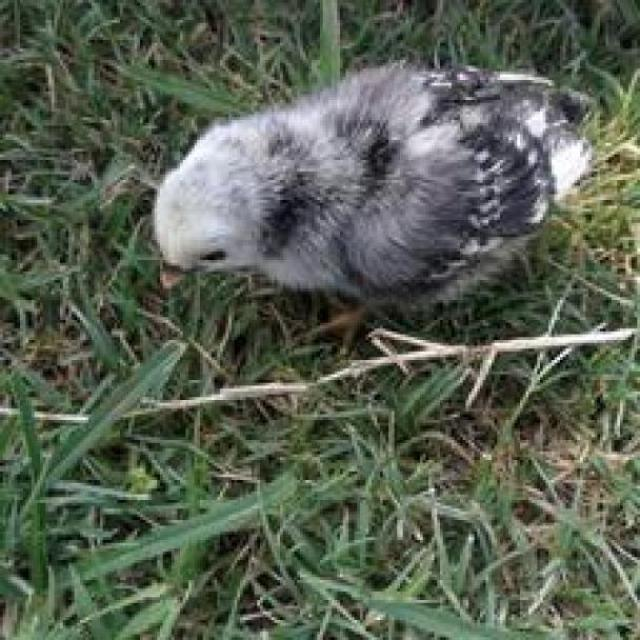Chicken: (155, 67, 597, 394)
